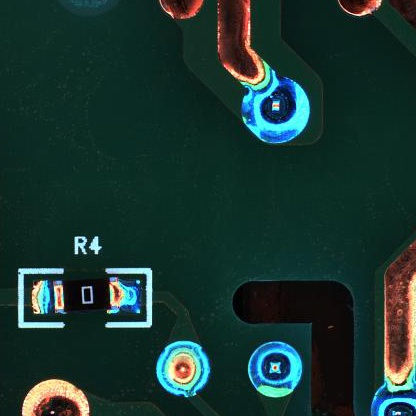spot: (239, 74, 314, 150), (245, 341, 303, 398), (155, 340, 209, 399)
